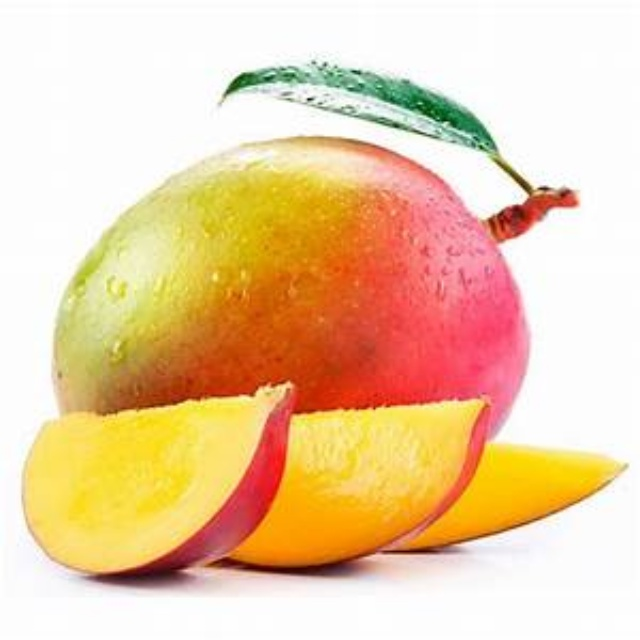mango: (22, 137, 628, 573)
